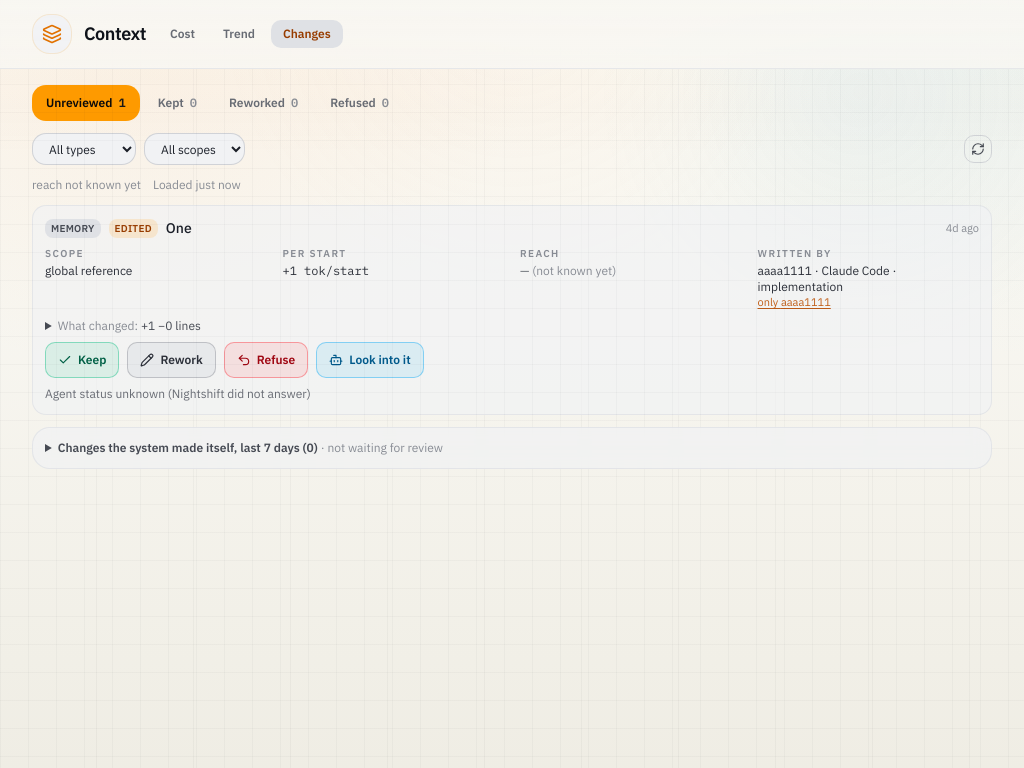
Scenario: Changes page › says when no agent started and when the status is unknown
Expected: the message with test id "lookinto-status" shows "Agent status unknown", [45, 386, 311, 401]
Click the button with aria-label "Look into One": x=370, y=360 [316, 342, 424, 378]
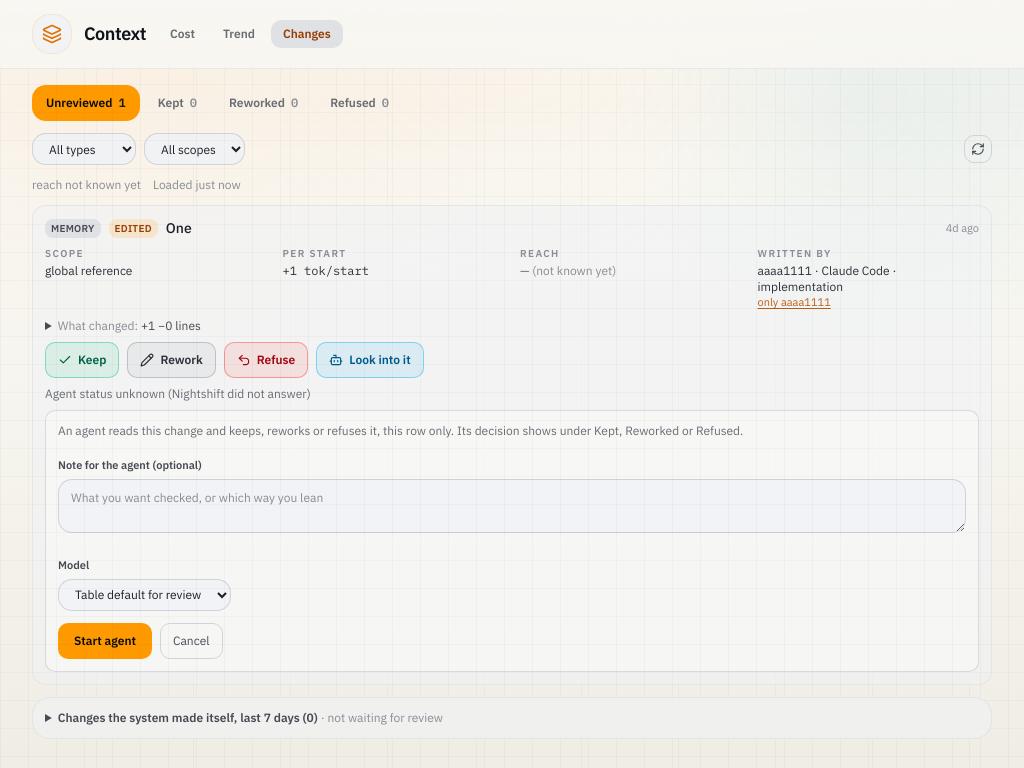
Click the button "Start agent": x=105, y=641 [58, 623, 152, 659]
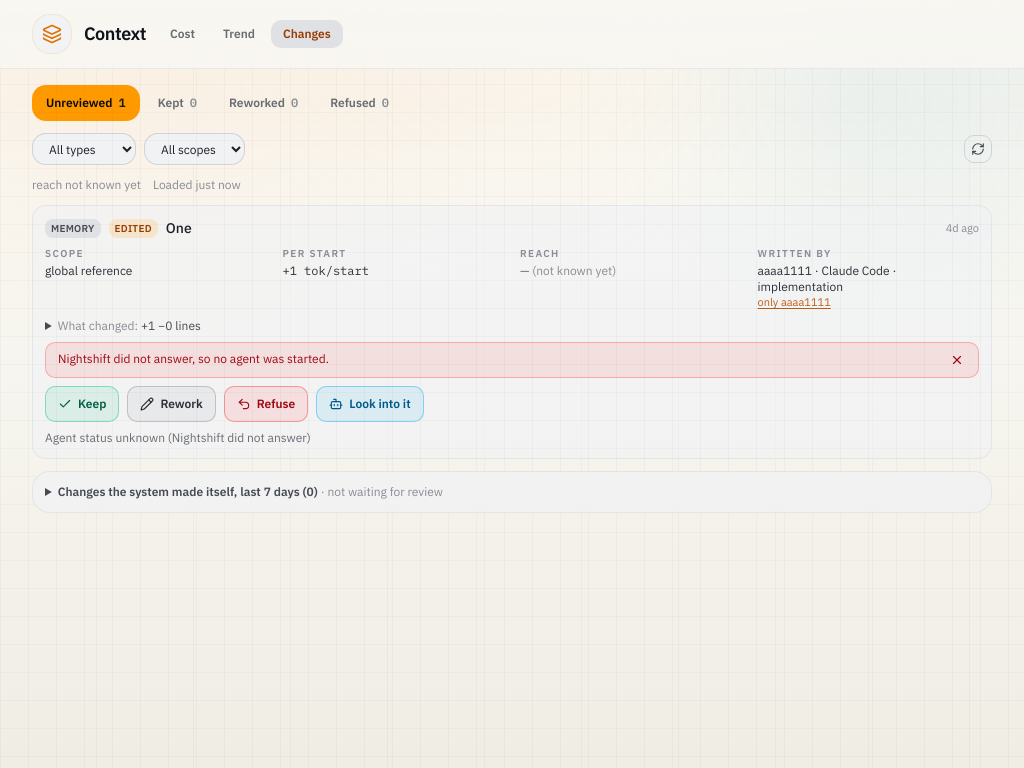
Expected: the button with aria-label "Look into One" is enabled, [316, 386, 424, 422]
Now the text "Nightshift did not answer, so no agent was started." is shown, box [58, 351, 329, 366]
